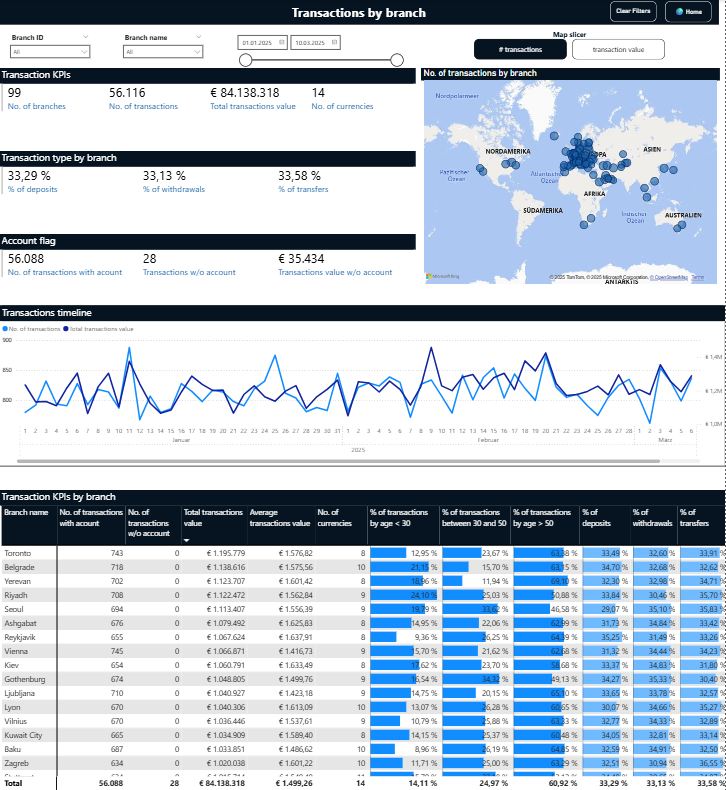

What the dashboard file says about the page in this screenshot:
{"tool":"powerbi","page":{"name":"Transactions by branch ","canvas":[1400,1530],"ordinal":3},"visuals":[{"type":"map","title":"No. of transactions by branch ","fields":{"Category":["reporting__high_lvl_branch_transactions_kpis.branch_name"],"Size":["Sum(reporting__high_lvl_branch_transactions_kpis.count_transactions)"]},"box":[812.2,132.2,575.6,421.1],"z":0},{"type":"shape","title":"Transactions","box":[0,0,1387,49],"z":1000},{"type":"actionButton","title":"Clear Filters Invoices","box":[1177.5,4.1,90,40],"z":3000},{"type":"actionButton","title":"Home_Button","box":[1283.8,3.4,90,41.2],"z":4000},{"type":"multiRowCard","title":"Transaction KPIs","fields":{"Values":["reporting__high_lvl_branch_transactions_kpis.branch_id","Sum(reporting__high_lvl_branch_transactions_kpis.count_transactions)","Sum(reporting__high_lvl_branch_transactions_kpis.total_transaction_amount_euro)","Count(reporting__high_lvl_branch_transactions_kpis.num_transaction_currencies)"]},"box":[0.2,132.5,802.5,100],"z":5000},{"type":"multiRowCard","title":"Account flag","fields":{"Values":["Sum(reporting__high_lvl_branch_transactions_kpis.transactions_with_account)","Sum(reporting__high_lvl_branch_transactions_kpis.transactions_without_account)","Sum(reporting__high_lvl_branch_transactions_kpis.transaction_amount_euro_without_account)"]},"box":[0,453.3,803.3,100],"z":7000},{"type":"slicer","title":"Traffic_Industry_Filter","fields":{"Values":["reporting__high_lvl_branch_transactions_kpis.branch_name"]},"box":[229.4,59,173.8,57.5],"z":9000},{"type":"slicer","title":"Traffic_Industry_Filter","fields":{"Values":["reporting__high_lvl_branch_transactions_kpis.branch_id"]},"box":[12.5,59,173.8,57.5],"z":10000},{"type":"bookmarkNavigator","box":[915.7,59,368.6,57.1],"z":11000},{"type":"multiRowCard","title":"Transaction type by branch","fields":{"Values":["Avg(reporting__high_lvl_branch_transactions_kpis.share_deposits)","Avg(reporting__high_lvl_branch_transactions_kpis.share_withdrawals)","Avg(reporting__high_lvl_branch_transactions_kpis.share_transfers)"]},"box":[0,292.9,803.3,100],"z":12000},{"type":"pivotTable","title":"Transaction KPIs by branch","fields":{"Rows":["reporting__high_lvl_branch_transactions_kpis.branch_name"],"Values":["Sum(reporting__high_lvl_branch_transactions_kpis.transactions_with_account)","Sum(reporting__high_lvl_branch_transactions_kpis.transactions_without_account)","Sum(reporting__high_lvl_branch_transactions_kpis.total_transaction_amount_euro)","Avg(reporting__high_lvl_branch_transactions_kpis.avg_transaction_amount_euro)","Count(reporting__high_lvl_branch_transactions_kpis.num_transaction_currencies)","Avg(reporting__high_lvl_branch_transactions_kpis.share_customers_under_30)","Avg(reporting__high_lvl_branch_transactions_kpis.share_customers_30_to_50)","Avg(reporting__high_lvl_branch_transactions_kpis.share_customers_over_50)","Avg(reporting__high_lvl_branch_transactions_kpis.share_deposits)","Avg(reporting__high_lvl_branch_transactions_kpis.share_withdrawals)","Avg(reporting__high_lvl_branch_transactions_kpis.share_transfers)"]},"box":[0,946.7,1548.9,583.3],"z":13000},{"type":"lineChart","title":"Transactions timeline","fields":{"Category":["reporting__high_lvl_branch_transactions_kpis.transaction_date.Variation.Datumshierarchie.Jahr","reporting__high_lvl_branch_transactions_kpis.transaction_date.Variation.Datumshierarchie.Monat","reporting__high_lvl_branch_transactions_kpis.transaction_date.Variation.Datumshierarchie.Tag"],"Y":["Sum(reporting__high_lvl_branch_transactions_kpis.count_transactions)"],"Y2":["Sum(reporting__high_lvl_branch_transactions_kpis.total_transaction_amount_euro)"]},"box":[0,590,1400,311.1],"z":14000},{"type":"slicer","title":"Traffic_Industry_Filter","fields":{"Values":["reporting__high_lvl_branch_transactions_kpis.transaction_date"]},"box":[446.2,59,341.2,101.2],"z":15000}]}

Visuals, with their boxes in screenshot pixels (x1, y1, x2, y2), scaled from the page's 1400x1530 canvas onto the 726x790 screenshot:
"No. of transactions by branch " map: [left=421, top=68, right=720, bottom=286]
"Transactions" shape: [left=0, top=0, right=719, bottom=25]
"Clear Filters Invoices" actionButton: [left=611, top=2, right=657, bottom=23]
"Home_Button" actionButton: [left=666, top=2, right=712, bottom=23]
"Transaction KPIs" multiRowCard: [left=0, top=68, right=416, bottom=120]
"Account flag" multiRowCard: [left=0, top=234, right=417, bottom=286]
"Traffic_Industry_Filter" slicer: [left=119, top=30, right=209, bottom=60]
"Traffic_Industry_Filter" slicer: [left=6, top=30, right=97, bottom=60]
bookmarkNavigator: [left=475, top=30, right=666, bottom=60]
"Transaction type by branch" multiRowCard: [left=0, top=151, right=417, bottom=203]
"Transaction KPIs by branch" pivotTable: [left=0, top=489, right=725, bottom=789]
"Transactions timeline" lineChart: [left=0, top=305, right=725, bottom=465]
"Traffic_Industry_Filter" slicer: [left=231, top=30, right=408, bottom=83]
